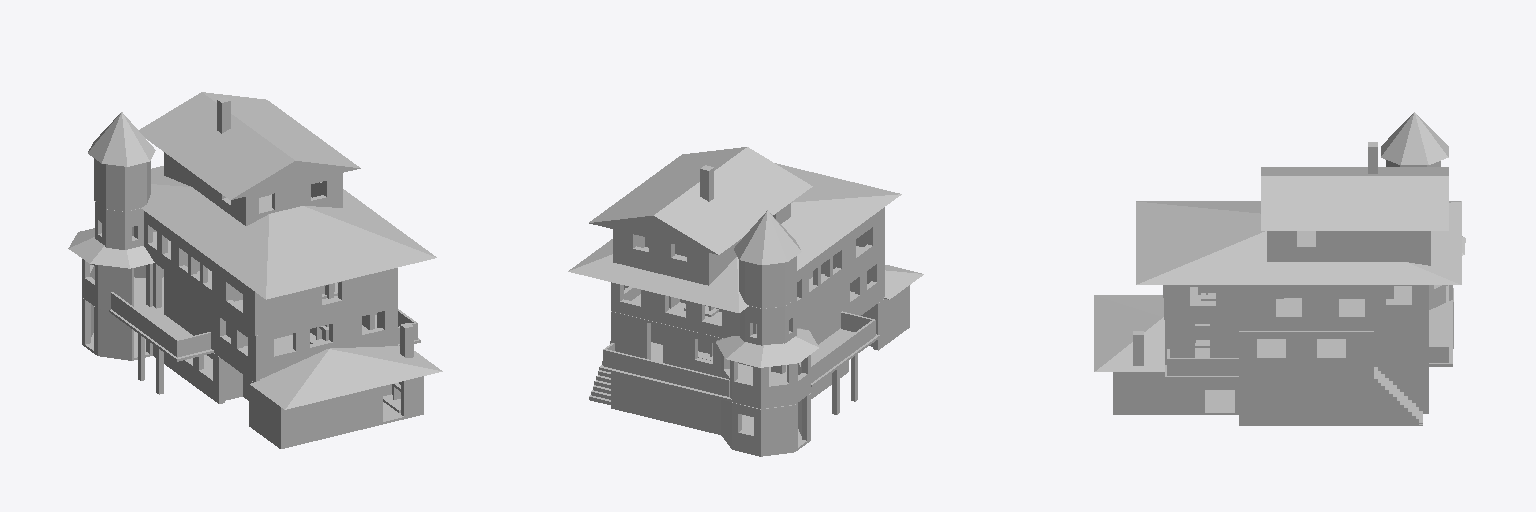
File: trollskullmanor.obj
3 views of the same model, side by side, from view 1: azimuth 30°, elevation 25°; view 2: azimuth 150°, elevation 25°; view 3: azimuth 270°, elevation 25° (orthographic).
Visible parts, largest first — view 1: 4_Cube, 2_Torus, 5_Plane, 3_Icosphere.001, 1_Icosphere; view 2: 2_Torus, 4_Cube, 5_Plane, 3_Icosphere.001, 1_Icosphere; view 3: 4_Cube, 2_Torus, 5_Plane, 1_Icosphere, 3_Icosphere.001.
Part boxes in pixels (left/top/right/bottom): 4_Cube: left=94, top=152, right=436, bottom=299; 2_Torus: left=82, top=259, right=442, bottom=409; 5_Plane: left=88, top=92, right=360, bottom=199; 3_Icosphere.001: left=68, top=201, right=397, bottom=335; 1_Icosphere: left=82, top=298, right=423, bottom=448; 2_Torus: left=599, top=252, right=923, bottom=408; 4_Cube: left=568, top=163, right=901, bottom=312; 5_Plane: left=589, top=147, right=812, bottom=264; 3_Icosphere.001: left=611, top=207, right=884, bottom=367; 1_Icosphere: left=589, top=285, right=909, bottom=456; 4_Cube: left=1136, top=160, right=1461, bottom=284; 2_Torus: left=1094, top=285, right=1452, bottom=378; 5_Plane: left=1261, top=112, right=1448, bottom=230; 1_Icosphere: left=1113, top=288, right=1453, bottom=425; 3_Icosphere.001: left=1164, top=236, right=1465, bottom=331.
Bounding box in the file's own units: 51.61 × 53.39 × 75.81.